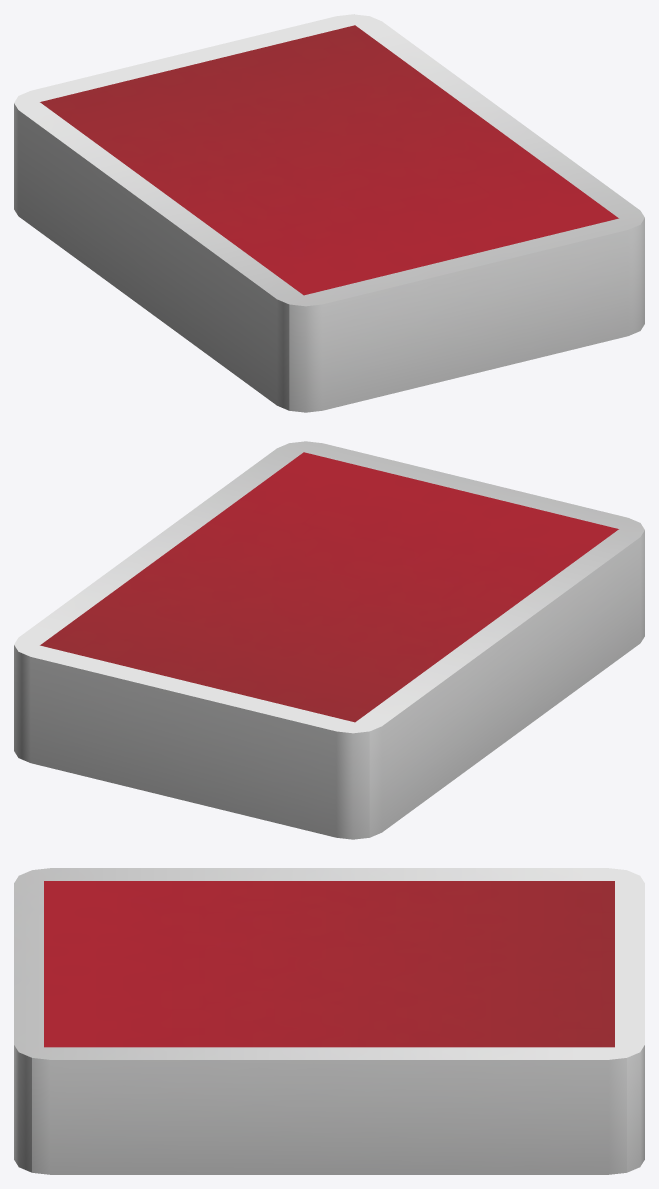
File: CardStack.fbx
The picture shows the model from 3 angles, top to bottom: view 1: azimuth 30°, elevation 25°; view 2: azimuth 150°, elevation 25°; view 3: azimuth 270°, elevation 25°; orthographic projection. The views are drawn at different scales.
Visible parts, largest first — view 1: CardStack_001; view 2: CardStack_001; view 3: CardStack_001.
Boxes of the visible parts, box(x1,y1,x2,y2) form: CardStack_001: box(14, 14, 644, 412); CardStack_001: box(14, 441, 644, 839); CardStack_001: box(14, 868, 644, 1174).
Size of the model in its own units: 6.4 by 1.79 by 8.9.
